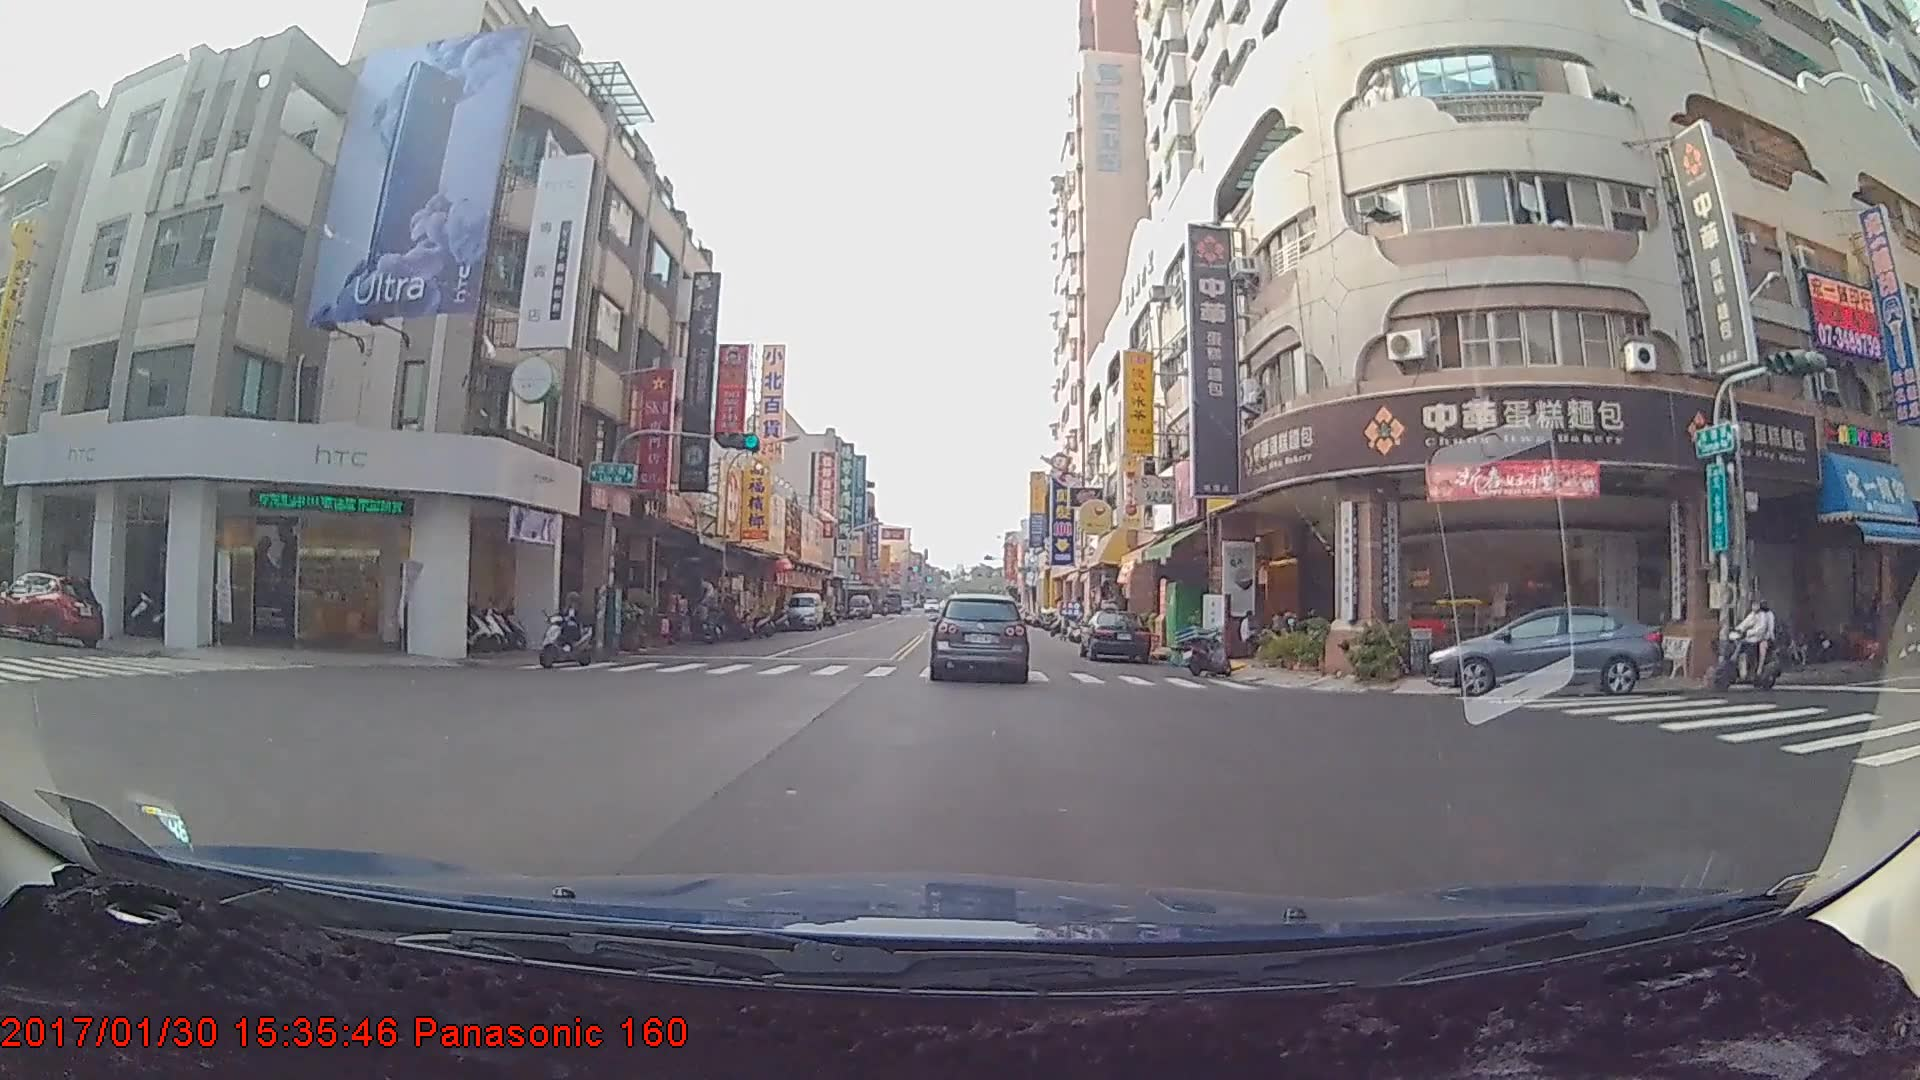pedestrian: (1236, 606, 1263, 658)
rider: (1698, 597, 1777, 685), (535, 574, 605, 660)
vehicle: (1417, 605, 1653, 692), (930, 594, 1028, 680), (6, 568, 111, 644), (1078, 605, 1149, 661), (778, 589, 823, 628), (847, 591, 873, 619)
